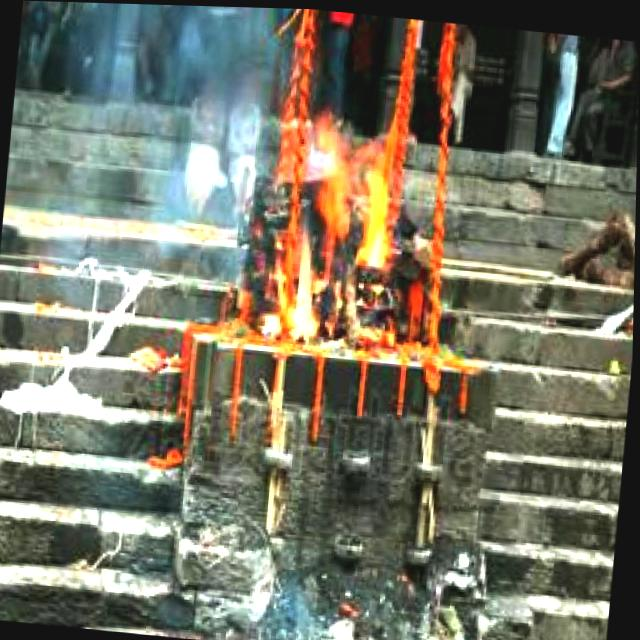Smoke: (262, 105, 410, 346)
